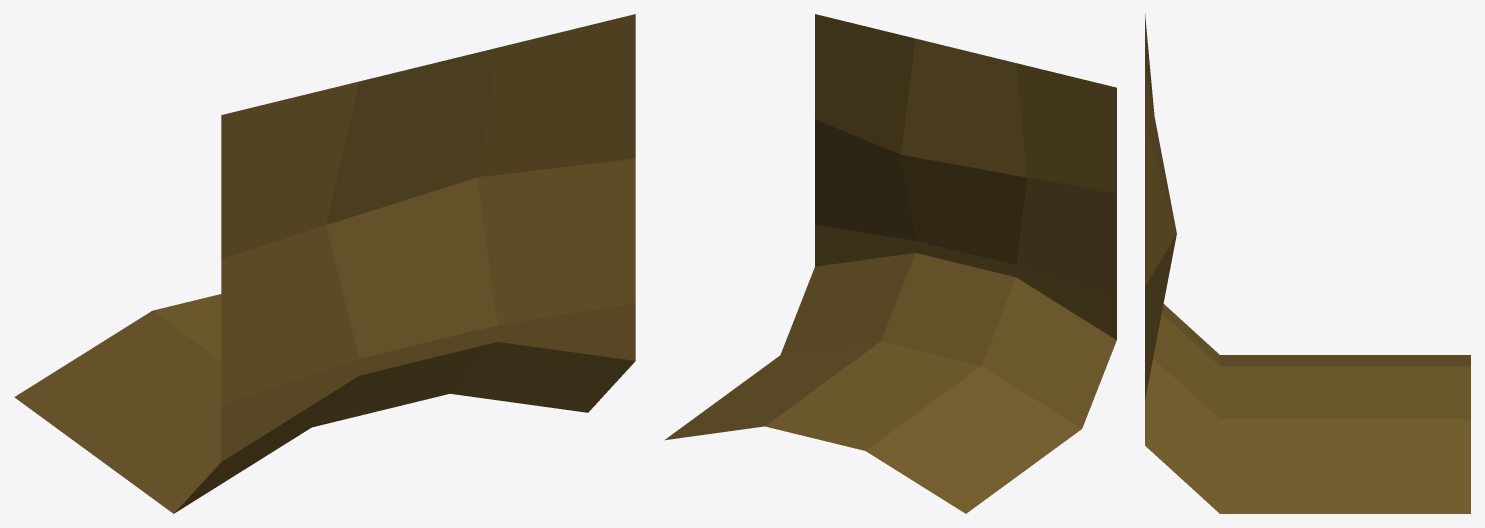
The model's file is Platformer_D.fbx.
3 renders of one model, left to right at view 1: azimuth 30°, elevation 25°; view 2: azimuth 150°, elevation 25°; view 3: azimuth 270°, elevation 25°, orthographic. The views are drawn at different scales.
Visible parts, largest first — view 1: Platformer_D; view 2: Platformer_D; view 3: Platformer_D.
Boxes of the visible parts, x1,y1,x2,y2 form: Platformer_D: [14, 14, 635, 513]; Platformer_D: [664, 14, 1116, 513]; Platformer_D: [1145, 14, 1470, 513].
Bounding box in the file's own units: 200 × 200 × 173.
